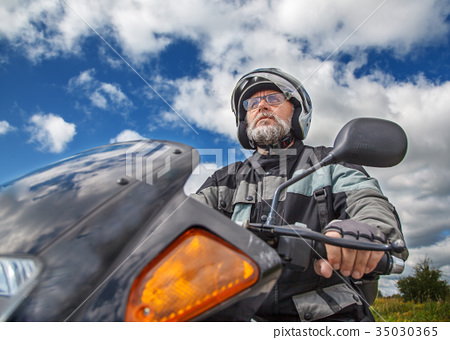helmet: (230, 71, 319, 152)
